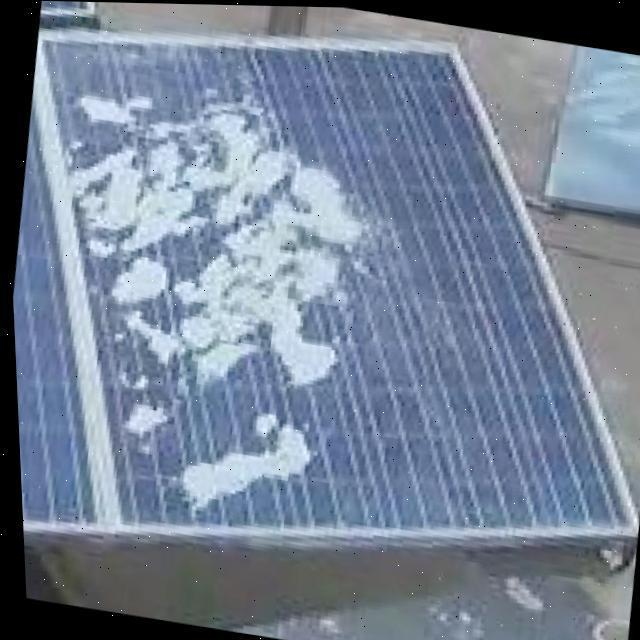Anomaly Solar Panel: (44, 8, 626, 570)
Snow: (45, 45, 426, 447), (160, 399, 320, 523)
